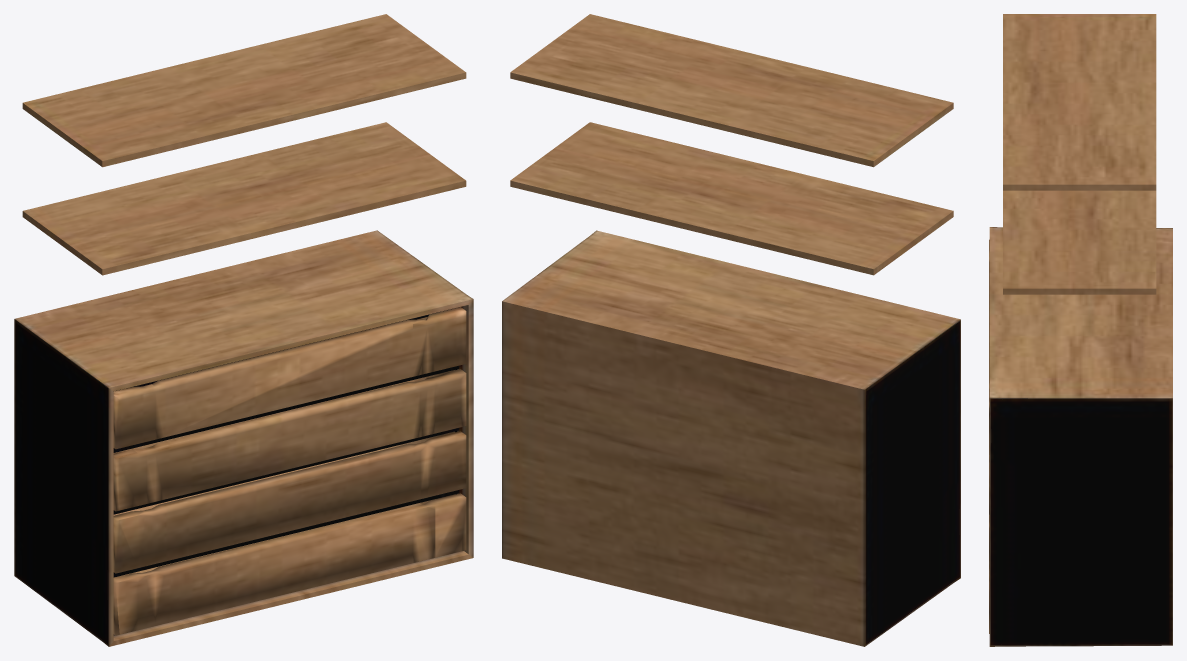
File: drawer_cabinet.glb
3 renders of one model, left to right at view 1: azimuth 30°, elevation 25°; view 2: azimuth 150°, elevation 25°; view 3: azimuth 270°, elevation 25°, orthographic. The views are drawn at different scales.
Parts seen in each view (by area): view 1: drawer_cabinet, drawer_cabinet_drawer_03, drawer_cabinet_drawer_02, drawer_cabinet_drawer_04, drawer_cabinet_drawer_01; view 2: drawer_cabinet; view 3: drawer_cabinet.
Part boxes in pixels (left/top/right/bottom): drawer_cabinet: left=14, top=14, right=473, bottom=646; drawer_cabinet_drawer_03: left=113, top=431, right=466, bottom=573; drawer_cabinet_drawer_02: left=113, top=369, right=466, bottom=511; drawer_cabinet_drawer_04: left=113, top=493, right=466, bottom=635; drawer_cabinet_drawer_01: left=113, top=307, right=466, bottom=449; drawer_cabinet: left=502, top=14, right=960, bottom=646; drawer_cabinet: left=989, top=14, right=1172, bottom=646.
Bounding box in the file's own units: 1.07 × 1.35 × 0.4881.
Materials: 1 (1 with a texture image).
